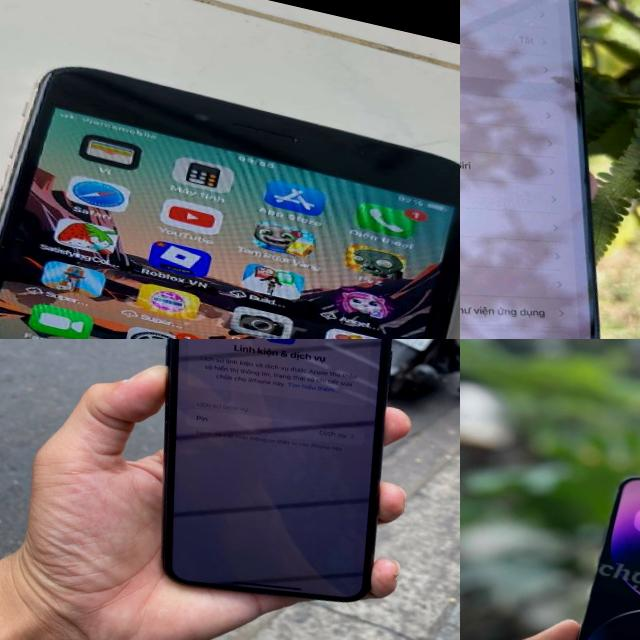gen_11: (98, 339, 440, 625)
gen_14: (539, 456, 640, 640)
gen_15: (460, 0, 640, 339)
gen_6: (0, 36, 460, 339)
